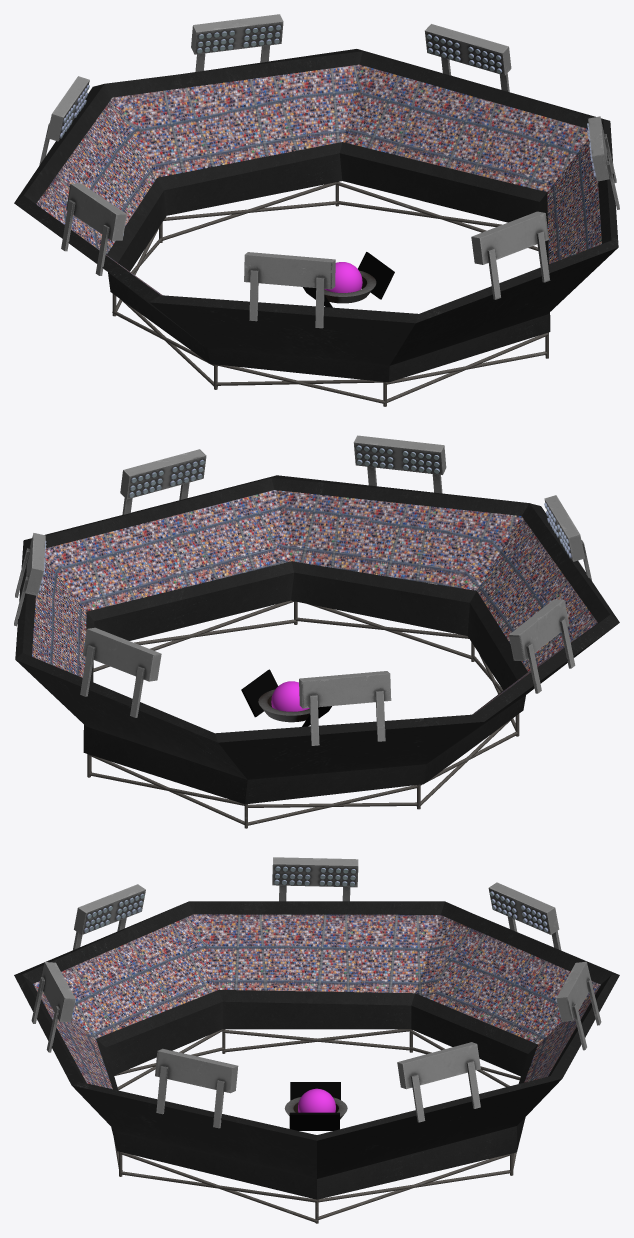
File: Audience12.fbx
3 views of the same model, one above another, from view 1: azimuth 30°, elevation 25°; view 2: azimuth 150°, elevation 25°; view 3: azimuth 270°, elevation 25° (orthographic). The views are drawn at different scales.
Visible parts, largest first — view 1: Stands, Stands.002, LightBacking.011, LightBacking.010, LightBacking.007, LightBacking.008, LightBacking.012, LightBacking.013, LightBacking.009, Screen1, Stands.001, Pole14 (+8 smaller); view 2: Stands, Stands.002, LightBacking.013, LightBacking.007, LightBacking.010, LightBacking.009, LightBacking.012, LightBacking.011, LightBacking.008, Screen1, Stands.001, Pole8 (+8 smaller); view 3: Stands, Stands.002, LightBacking.009, LightBacking.008, LightBacking.012, LightBacking.011, LightBacking.013, LightBacking.010, LightBacking.007, Screen1, Pole9, Stands.001 (+6 smaller).
Part boxes in pixels (bbox=[...]): Stands: bbox=[14, 49, 618, 382]; Stands.002: bbox=[36, 64, 601, 295]; LightBacking.011: bbox=[244, 252, 335, 289]; LightBacking.010: bbox=[471, 211, 548, 264]; LightBacking.007: bbox=[191, 14, 283, 54]; LightBacking.008: bbox=[425, 24, 511, 75]; LightBacking.012: bbox=[66, 183, 126, 240]; LightBacking.013: bbox=[46, 76, 89, 141]; LightBacking.009: bbox=[588, 116, 609, 181]; Screen1: bbox=[358, 252, 394, 299]; Stands.001: bbox=[324, 262, 362, 292]; Pole14: bbox=[162, 182, 337, 240]; Stands: bbox=[15, 475, 619, 804]; Stands.002: bbox=[32, 490, 597, 714]; LightBacking.013: bbox=[299, 671, 391, 708]; LightBacking.007: bbox=[82, 627, 161, 681]; LightBacking.010: bbox=[353, 435, 446, 474]; LightBacking.009: bbox=[120, 449, 206, 499]; LightBacking.012: bbox=[508, 599, 569, 661]; LightBacking.011: bbox=[544, 495, 584, 561]; LightBacking.008: bbox=[25, 533, 45, 595]; Screen1: bbox=[241, 669, 277, 717]; Stands.001: bbox=[271, 681, 309, 711]; Pole8: bbox=[295, 617, 469, 638]; Stands: bbox=[14, 901, 619, 1199]; Stands.002: bbox=[33, 914, 600, 1089]; LightBacking.009: bbox=[155, 1048, 238, 1093]; LightBacking.008: bbox=[397, 1042, 480, 1089]; LightBacking.012: bbox=[272, 857, 358, 887]; LightBacking.011: bbox=[74, 884, 145, 934]; LightBacking.013: bbox=[488, 882, 559, 934]; LightBacking.010: bbox=[41, 962, 75, 1022]; LightBacking.007: bbox=[556, 961, 592, 1021]; Screen1: bbox=[289, 1112, 339, 1130]; Pole9: bbox=[120, 1152, 318, 1222]; Stands.001: bbox=[298, 1088, 335, 1112].
Size of the model in its own units: 64282 by 20901 by 67623.
